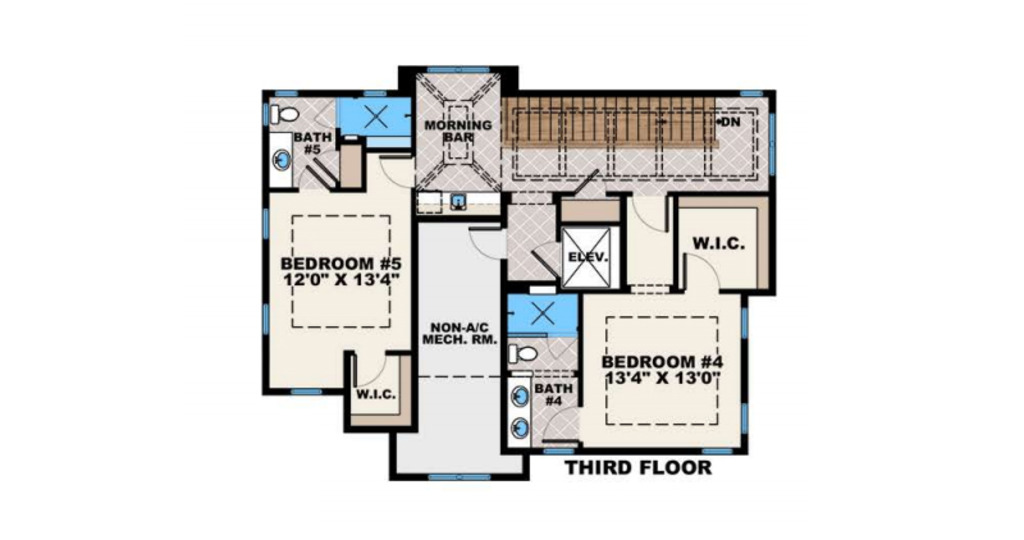door: (681, 248, 725, 295), (627, 192, 672, 233), (376, 148, 415, 190), (350, 347, 388, 390), (541, 406, 582, 443), (467, 224, 503, 262), (314, 147, 342, 191), (292, 164, 331, 195)
large_sink: (267, 101, 303, 133), (506, 340, 542, 371)
small_sink: (506, 375, 532, 446), (267, 130, 294, 188)
stairs: (497, 91, 720, 157)
windows: (763, 112, 782, 183), (422, 59, 491, 76), (423, 467, 488, 484), (286, 382, 325, 400), (736, 303, 752, 346), (257, 204, 272, 248), (701, 444, 735, 459), (259, 297, 271, 337), (740, 397, 750, 437)
